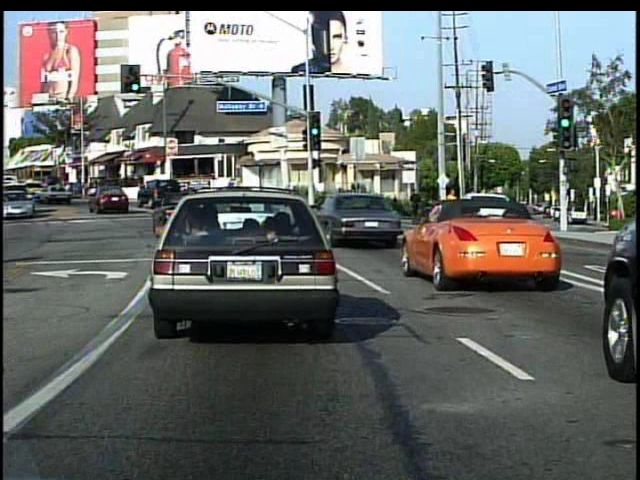person: (443, 187, 462, 227), (408, 186, 426, 226)
